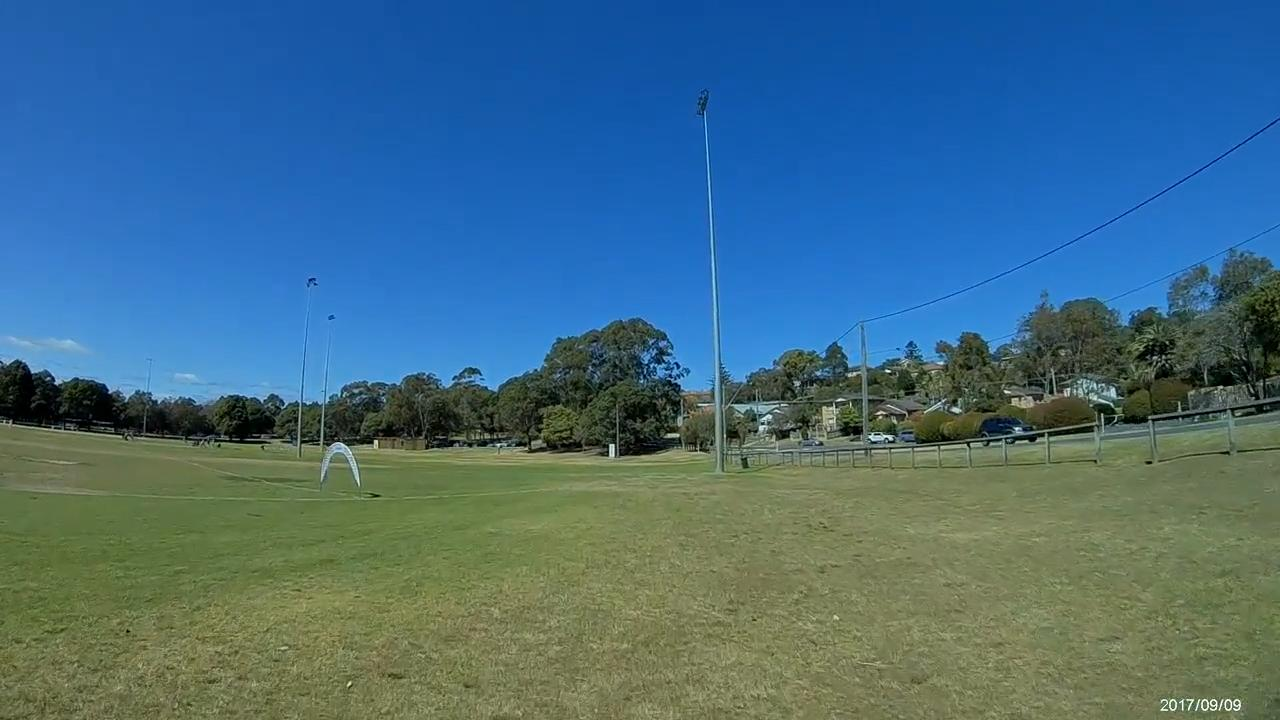gate: (319, 442, 361, 488)
